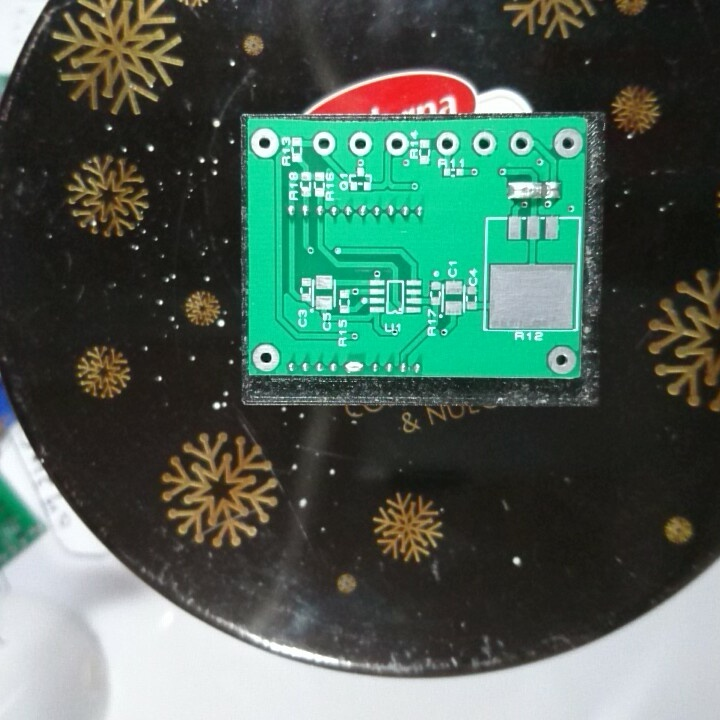F: (552, 126, 583, 162), (545, 343, 578, 376), (250, 342, 284, 373), (248, 127, 281, 158), (347, 129, 375, 158), (383, 129, 411, 158), (470, 129, 499, 156), (434, 130, 461, 158), (311, 129, 337, 158), (508, 129, 534, 158)
P: (505, 178, 545, 203), (342, 358, 365, 375)
